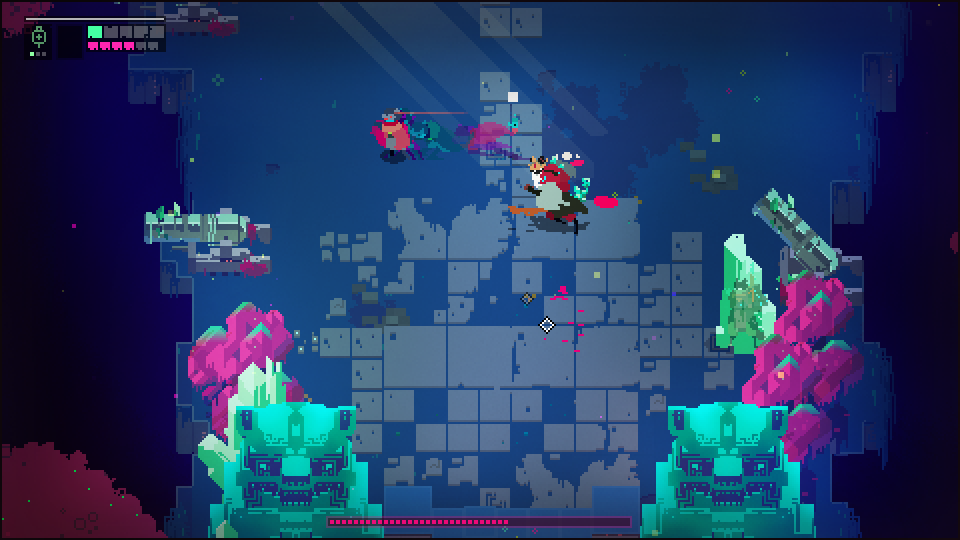hanged_man: (510, 155, 592, 234)
player: (378, 110, 414, 162)
